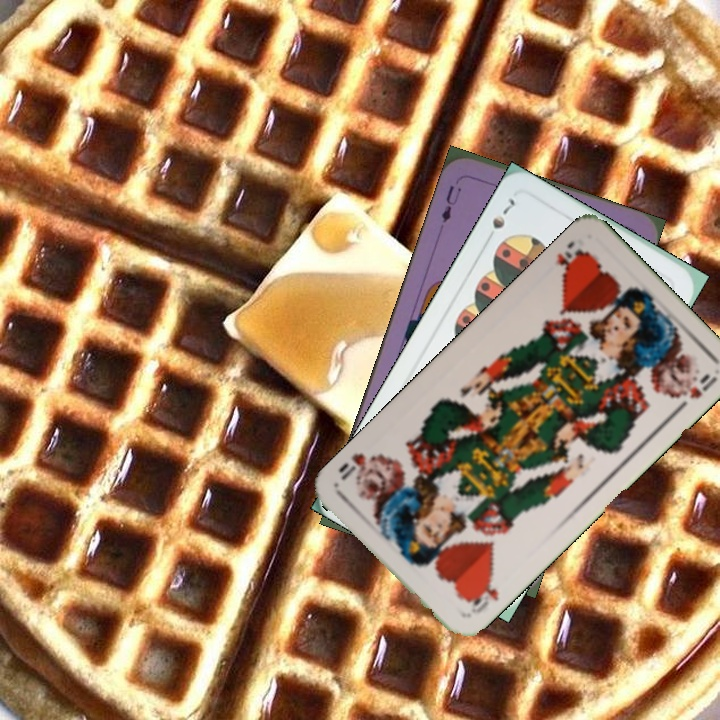EU: (437, 181, 464, 226)
HO: (463, 573, 502, 617), (552, 236, 591, 279)
S7: (483, 193, 520, 245)
